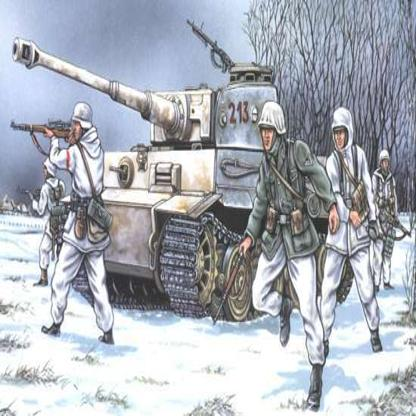Tank: (5, 35, 351, 330)
